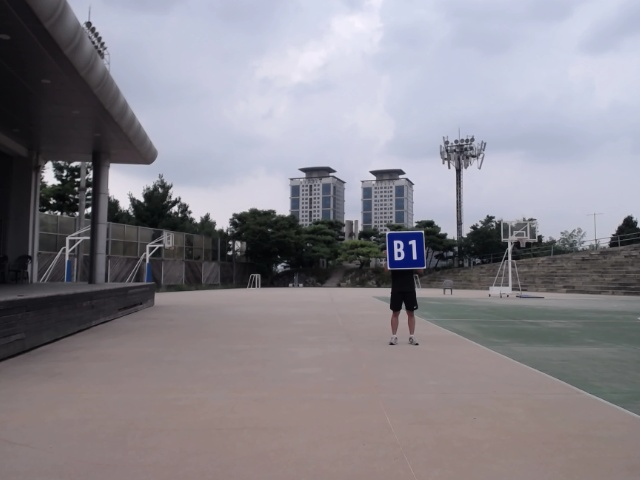delivery_b1: (386, 231, 426, 269)
